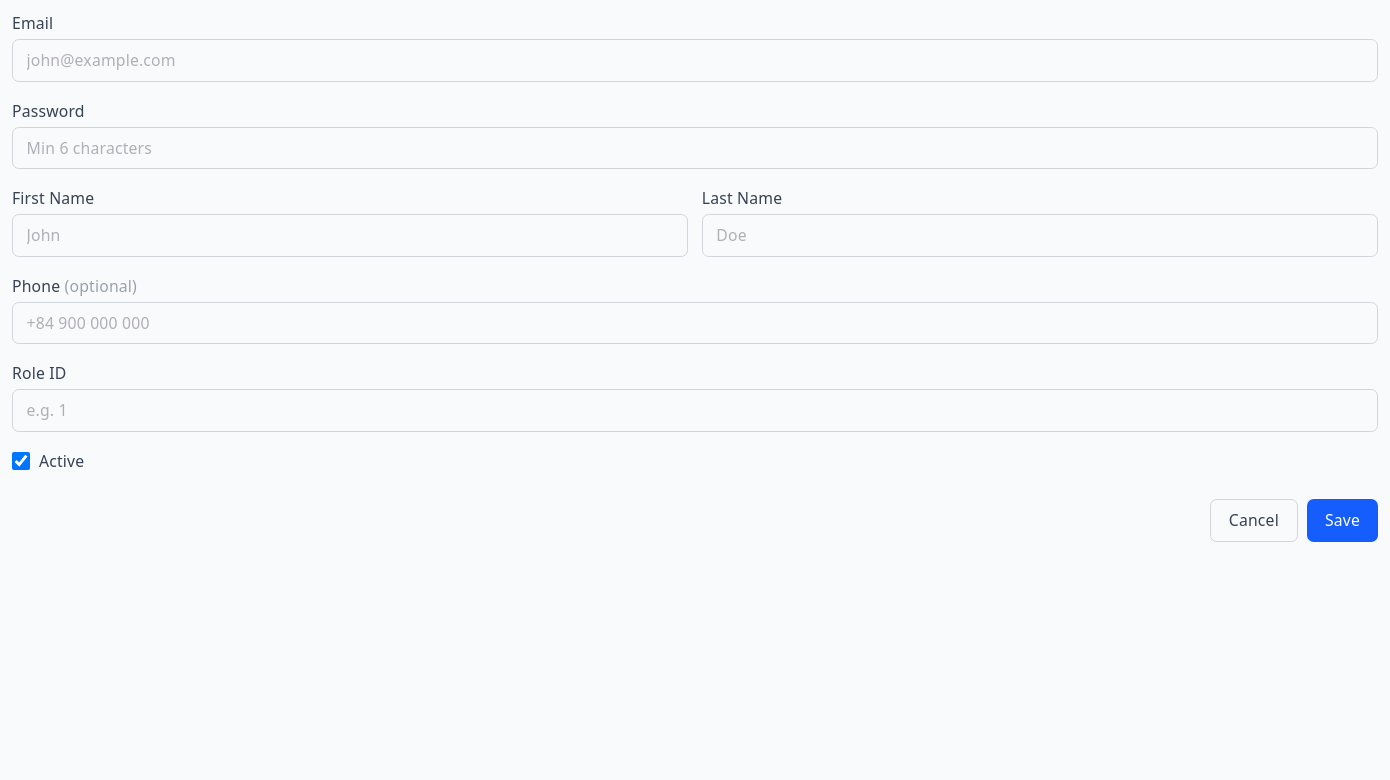
Test: UserForm — create mode › shows password min-length error
This screenshot has width=1390, height=780.
Type "123" into the password field labelled "Password". click: (695,148)
box: [12,126,1378,169]
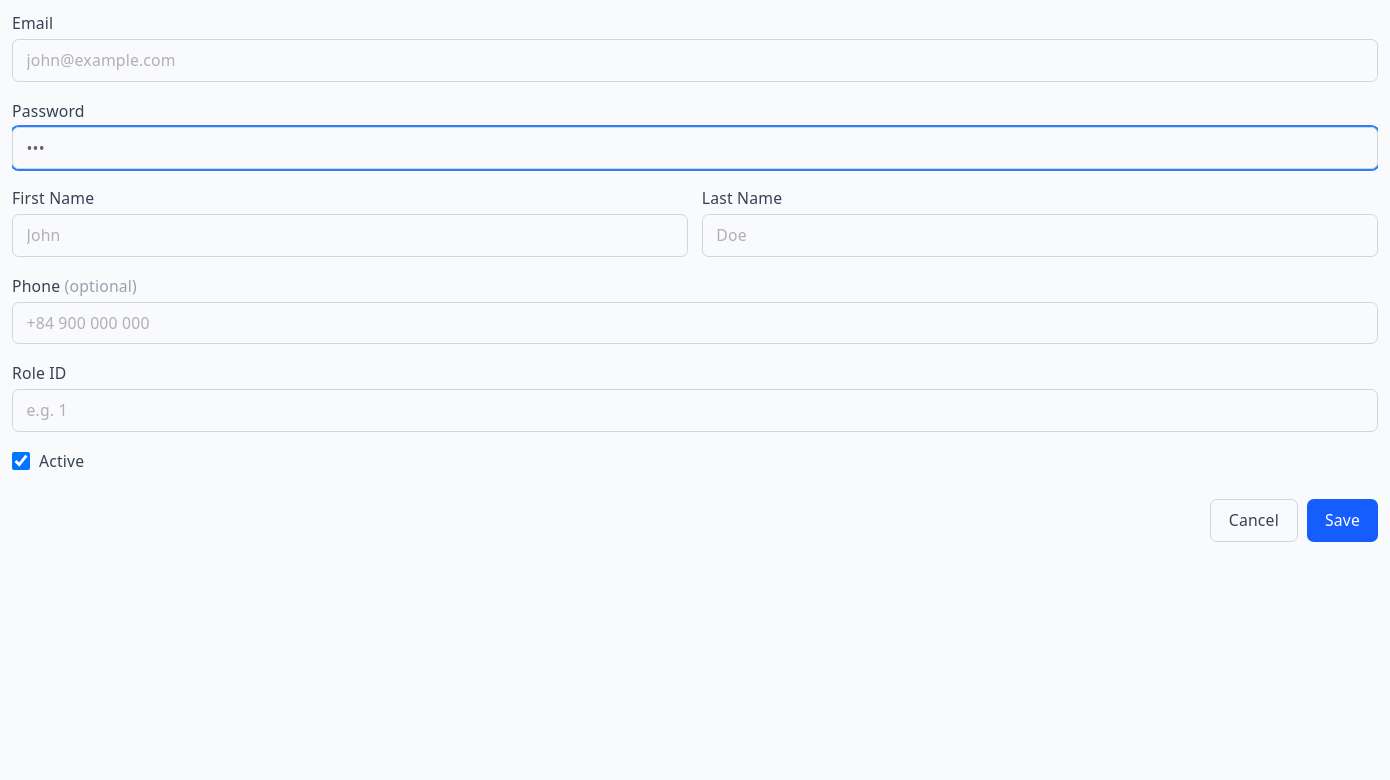
Click the button "Save". click: (1342,520)
box: [1307,499,1378,542]
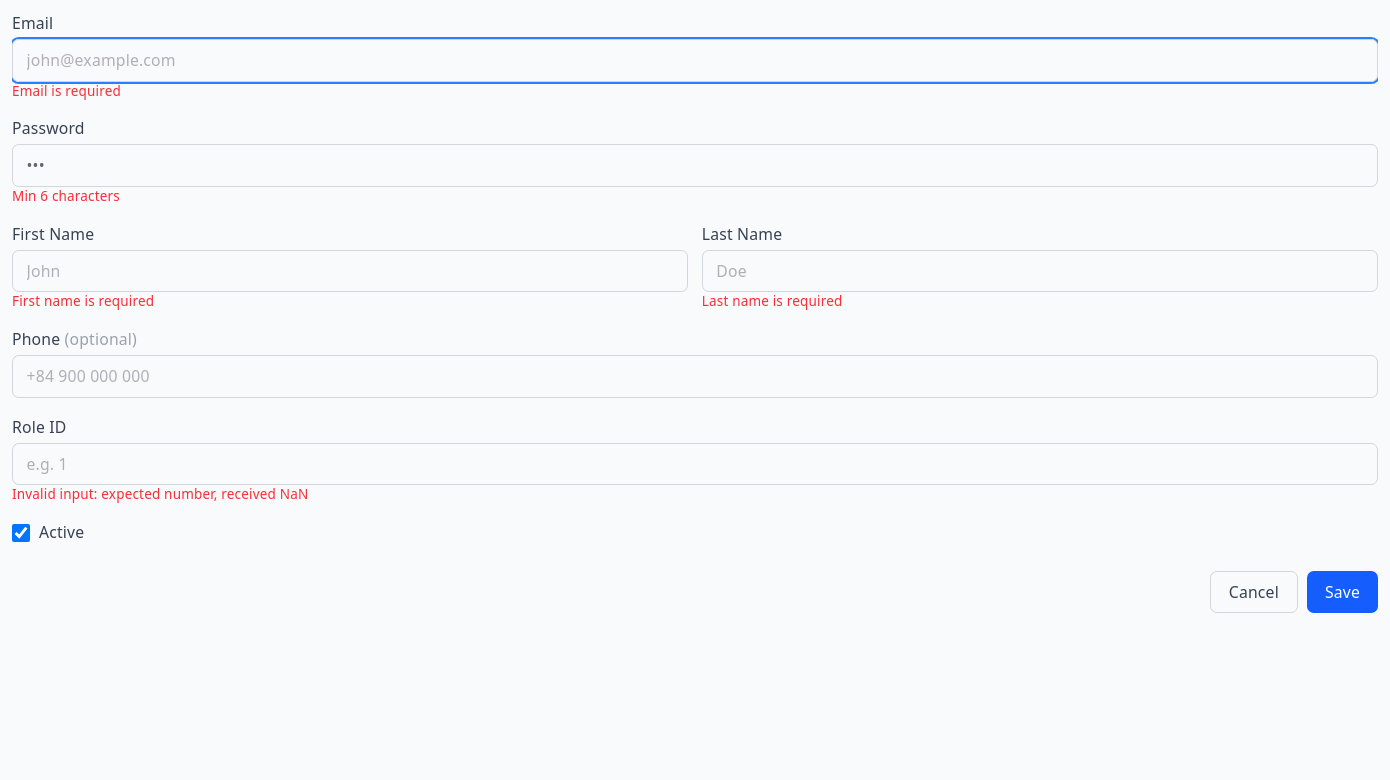
Now the text "Min 6 characters" is shown, box [12,187,120,205]
